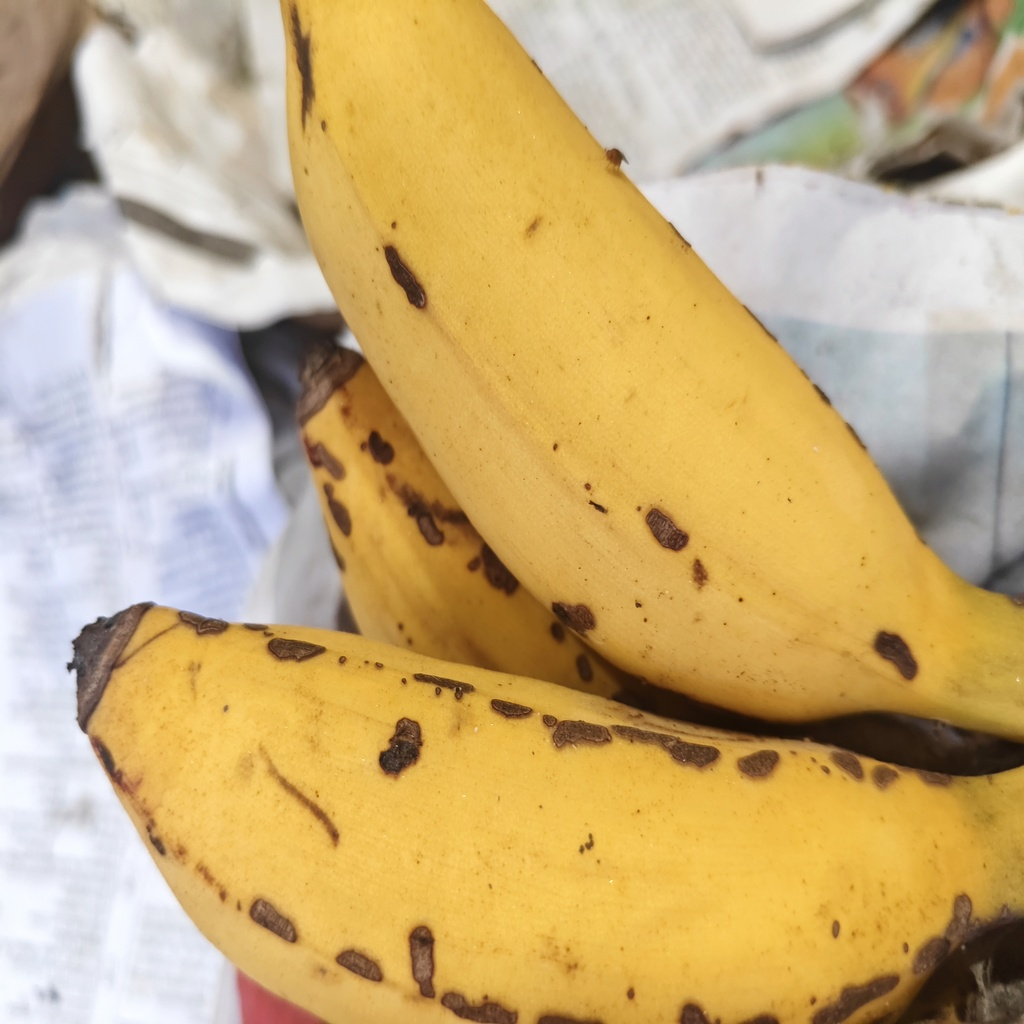unhealthy: (279, 1, 1004, 716), (78, 609, 962, 1014)
